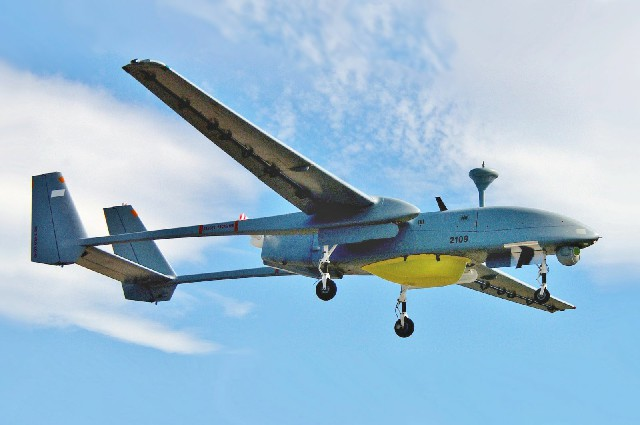maybay_khongnguoilai: (34, 61, 592, 317)
